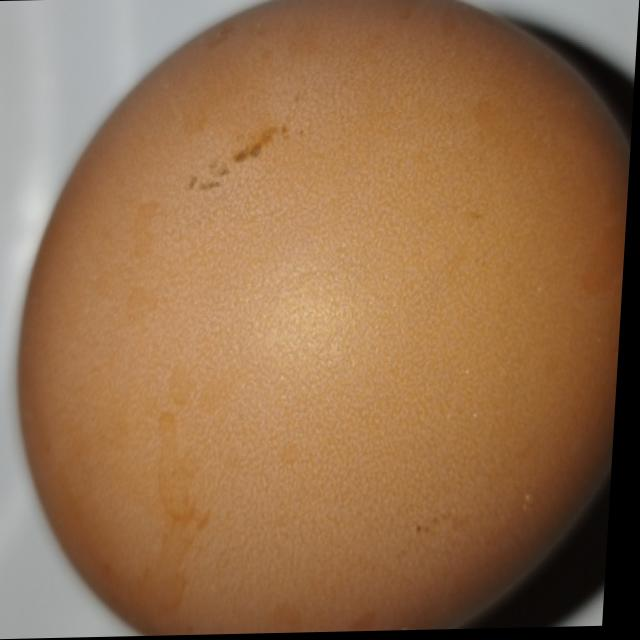fresh: (16, 0, 640, 639)
